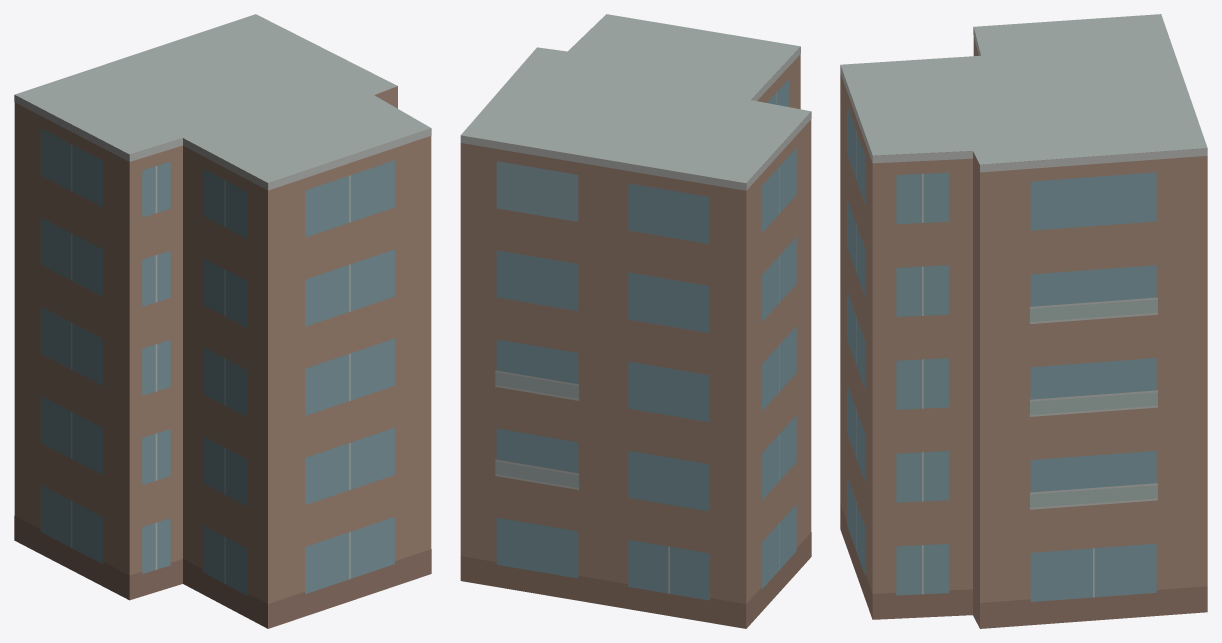
The model's file is survey-upis-32723601.glb.
3 views of the same model, side by side, from view 1: azimuth 30°, elevation 25°; view 2: azimuth 150°, elevation 25°; view 3: azimuth 270°, elevation 25° (orthographic). The views are drawn at different scales.
Visible parts, largest first — view 1: survey-upis-32723601.tmp; view 2: survey-upis-32723601.tmp; view 3: survey-upis-32723601.tmp.
Part boxes in pixels (<box>): survey-upis-32723601.tmp: <box>14,14,431,628</box>; survey-upis-32723601.tmp: <box>460,14,811,628</box>; survey-upis-32723601.tmp: <box>840,14,1207,628</box>.
Size of the model in its own units: 10.07 by 14.45 by 10.37.
